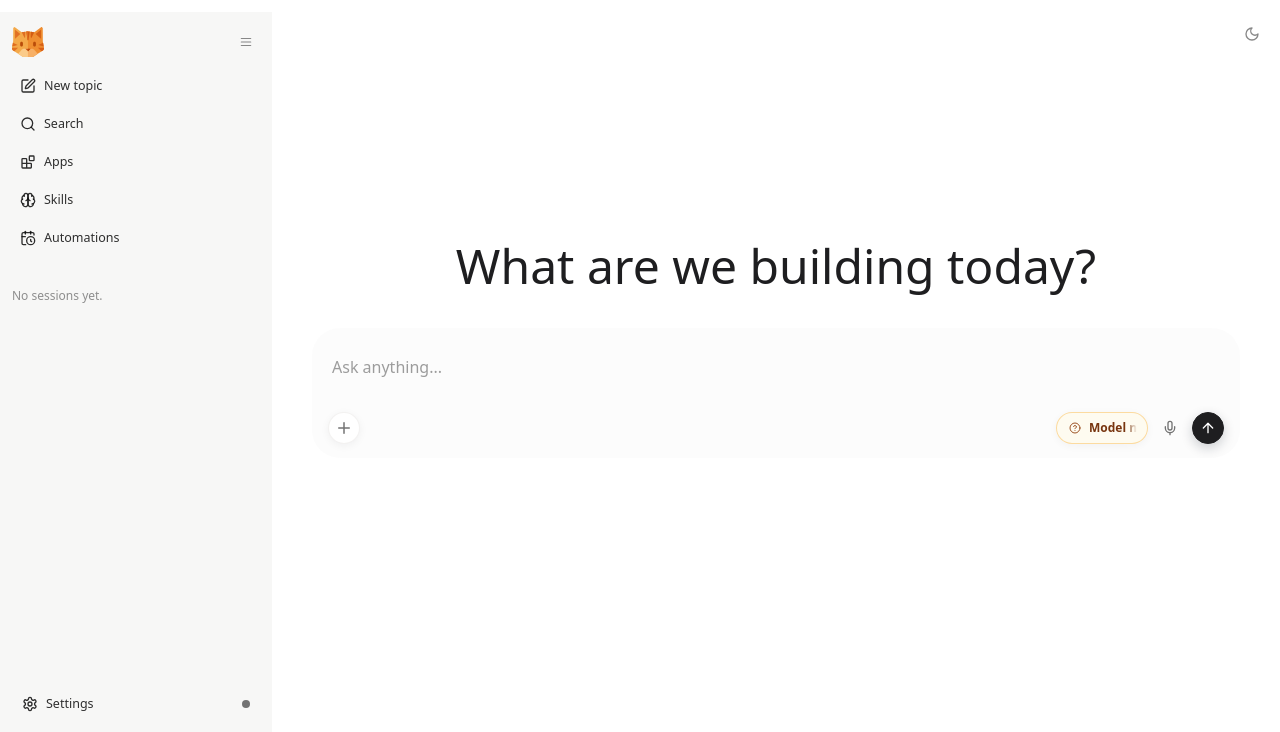
Test: App layout › keeps long automation details expandable without nested scrolling
What coordinates should you click on to do the following:
click the button "Automations"
I would click on:
 (136, 238)
Its box is [8,222,264,254].
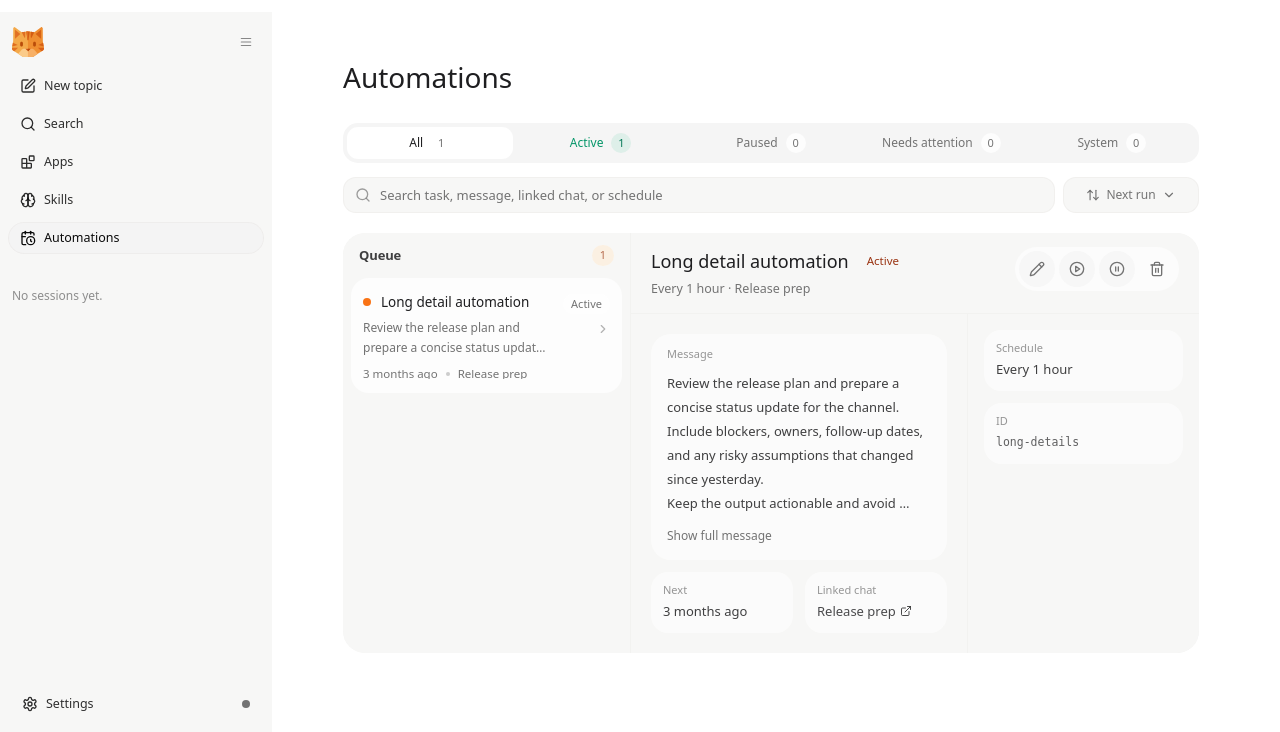
Check: the element "Long detail automation" is shown, box [631,233,1199,653]
What coordinates should you click on to do the following:
click the button "Show full message"
I would click on:
 (719, 536)
Its box is [667,527,772,545].
(page scrolled)
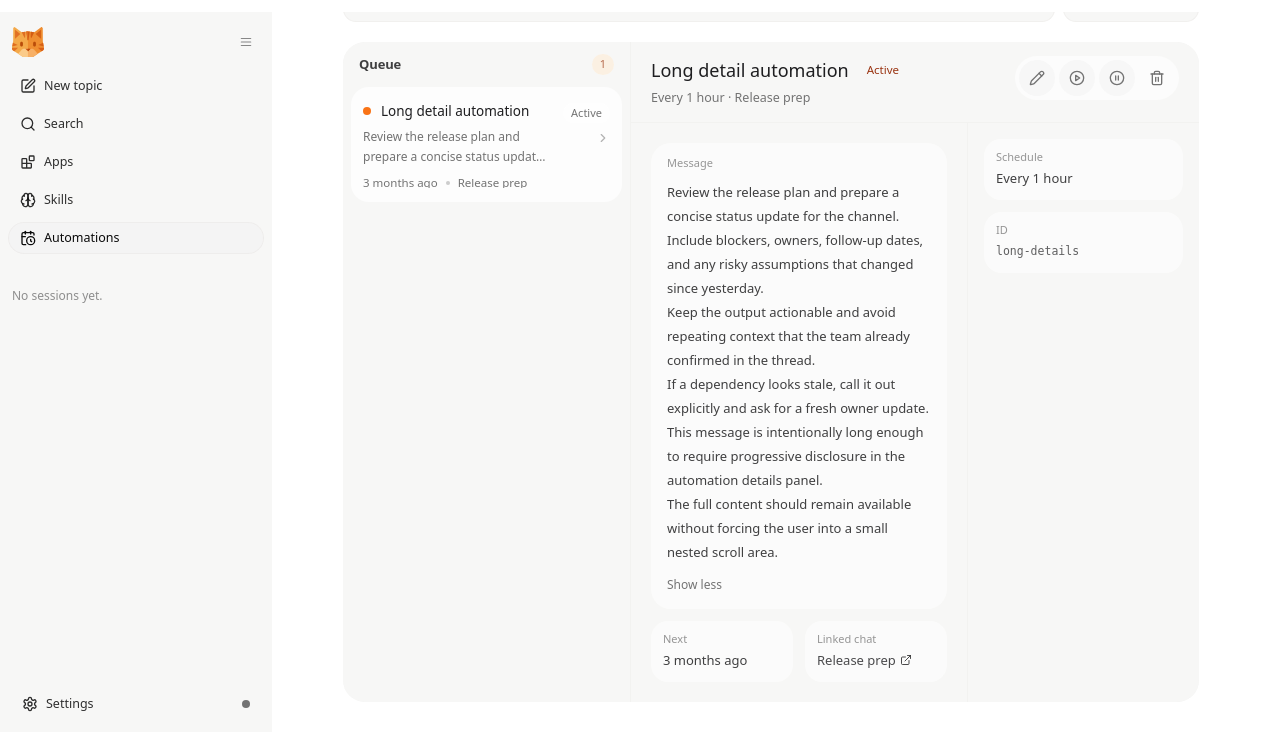
Check: the button "Show less" is shown, box [667,576,722,594]
